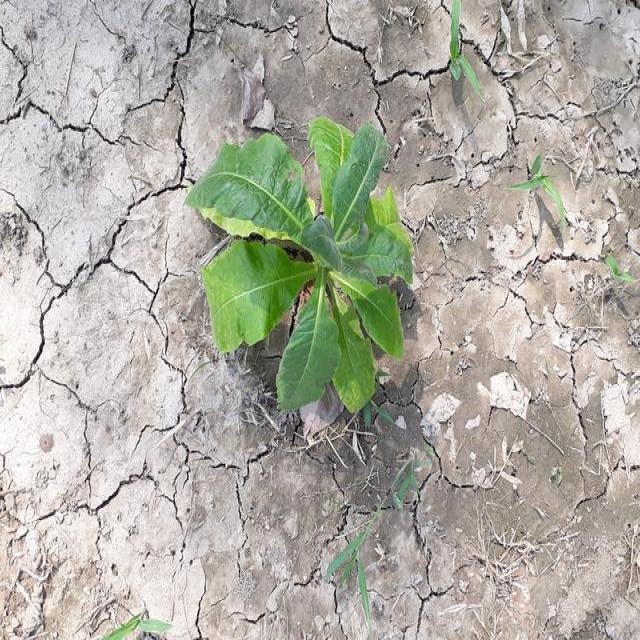crop: (192, 118, 423, 404)
